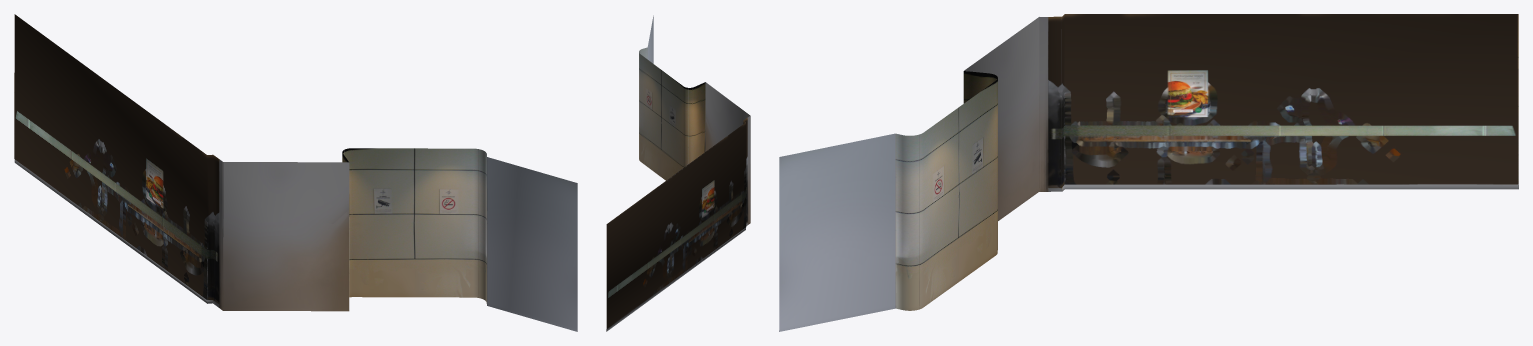
File: PARED.glb
3 renders of one model, left to right at view 1: azimuth 30°, elevation 25°; view 2: azimuth 150°, elevation 25°; view 3: azimuth 270°, elevation 25°, orthographic. The views are drawn at different scales.
Visible parts, largest first — view 1: PAREDBAKE; view 2: PAREDBAKE; view 3: PAREDBAKE.
Boxes of the visible parts, <box> form: PAREDBAKE: <box>14,14,577,331</box>; PAREDBAKE: <box>606,15,750,331</box>; PAREDBAKE: <box>779,14,1518,331</box>.
Bounding box in the file's own units: 51.52 × 29.41 × 113.
Materials: 1 (1 with a texture image).
